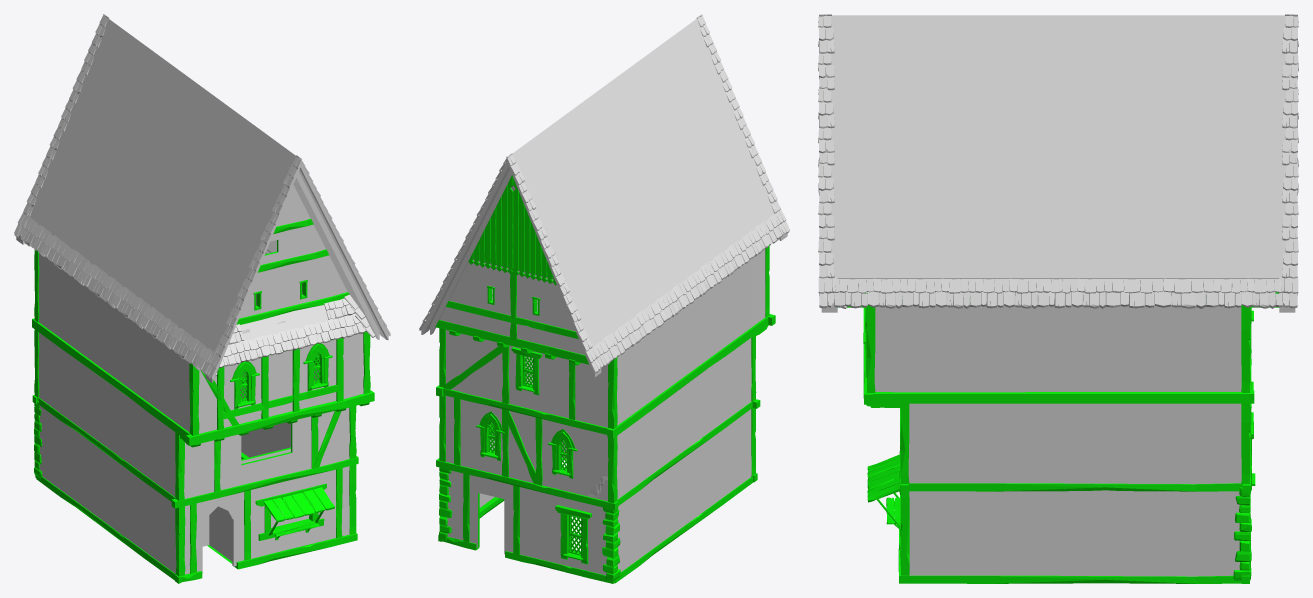
File: SM_House_Narrow_A_Fantasy_Base.fbx
3 renders of one model, left to right at view 1: azimuth 30°, elevation 25°; view 2: azimuth 150°, elevation 25°; view 3: azimuth 270°, elevation 25°, orthographic. The views are drawn at different scales.
Parts seen in each view (by area): view 1: SM_House_Narrow_A_Fantasy_Base; view 2: SM_House_Narrow_A_Fantasy_Base; view 3: SM_House_Narrow_A_Fantasy_Base.
Part boxes in pixels (x1=…): SM_House_Narrow_A_Fantasy_Base: x1=14, y1=14, x2=390, y2=583; SM_House_Narrow_A_Fantasy_Base: x1=419, y1=14, x2=789, y2=583; SM_House_Narrow_A_Fantasy_Base: x1=818, y1=14, x2=1298, y2=583.
Size of the model in its own units: 7.61 by 16.81 by 14.14.
